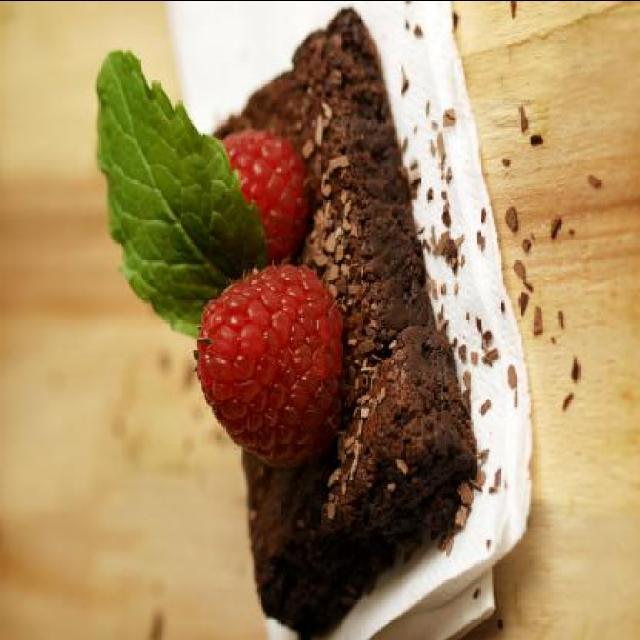Cake: (211, 4, 475, 638)
